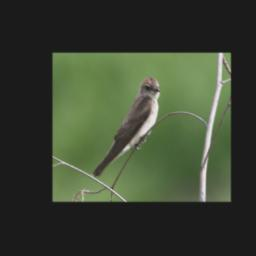Swallow: (90, 76, 161, 179)
